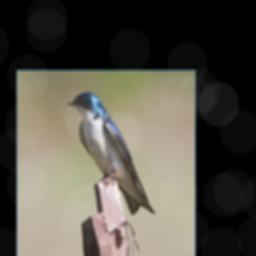Swallow: (67, 91, 157, 217)
